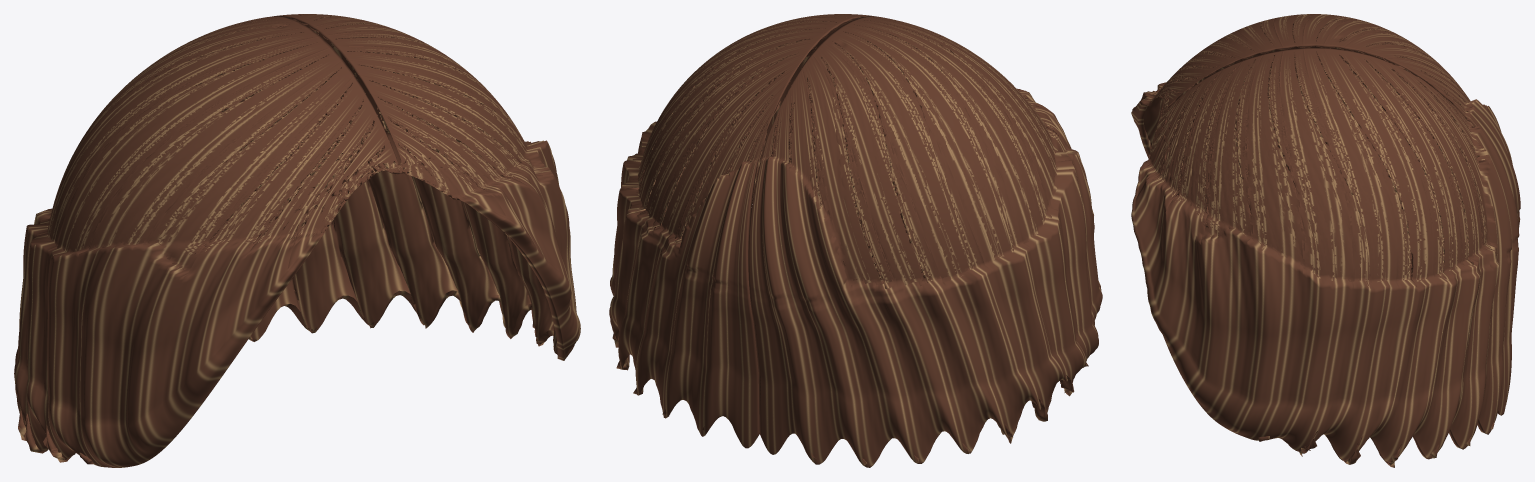
Rendered from Highlights-690e5140026f252-hair.glb.
3 renders of one model, left to right at view 1: azimuth 30°, elevation 25°; view 2: azimuth 150°, elevation 25°; view 3: azimuth 270°, elevation 25°, orthographic. The views are drawn at different scales.
Parts seen in each view (by area): view 1: 226 hair / Hair252 / flowing sculpt flow.001; view 2: 226 hair / Hair252 / flowing sculpt flow.001; view 3: 226 hair / Hair252 / flowing sculpt flow.001.
Part boxes in pixels (x1=…): 226 hair / Hair252 / flowing sculpt flow.001: x1=14, y1=14, x2=580, y2=467; 226 hair / Hair252 / flowing sculpt flow.001: x1=609, y1=14, x2=1102, y2=467; 226 hair / Hair252 / flowing sculpt flow.001: x1=1131, y1=14, x2=1520, y2=467.
Size of the model in its own units: 1.11 by 0.8393 by 0.8447.
1 material, 1 textured.
